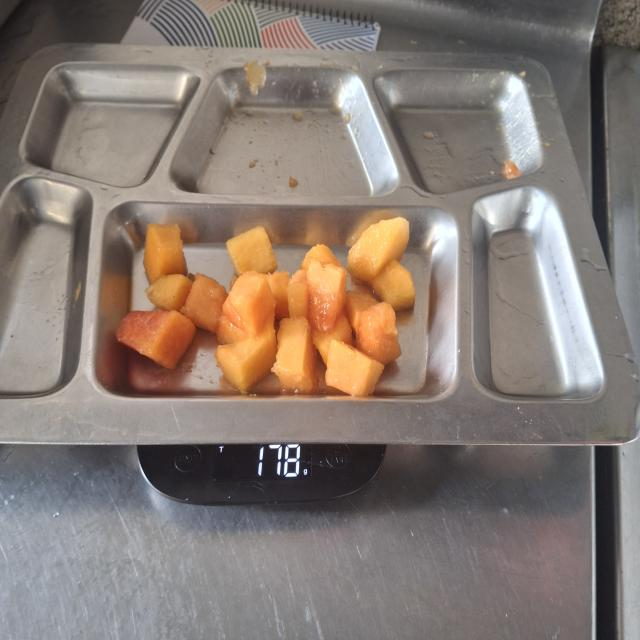Papaya: (113, 208, 416, 399)
